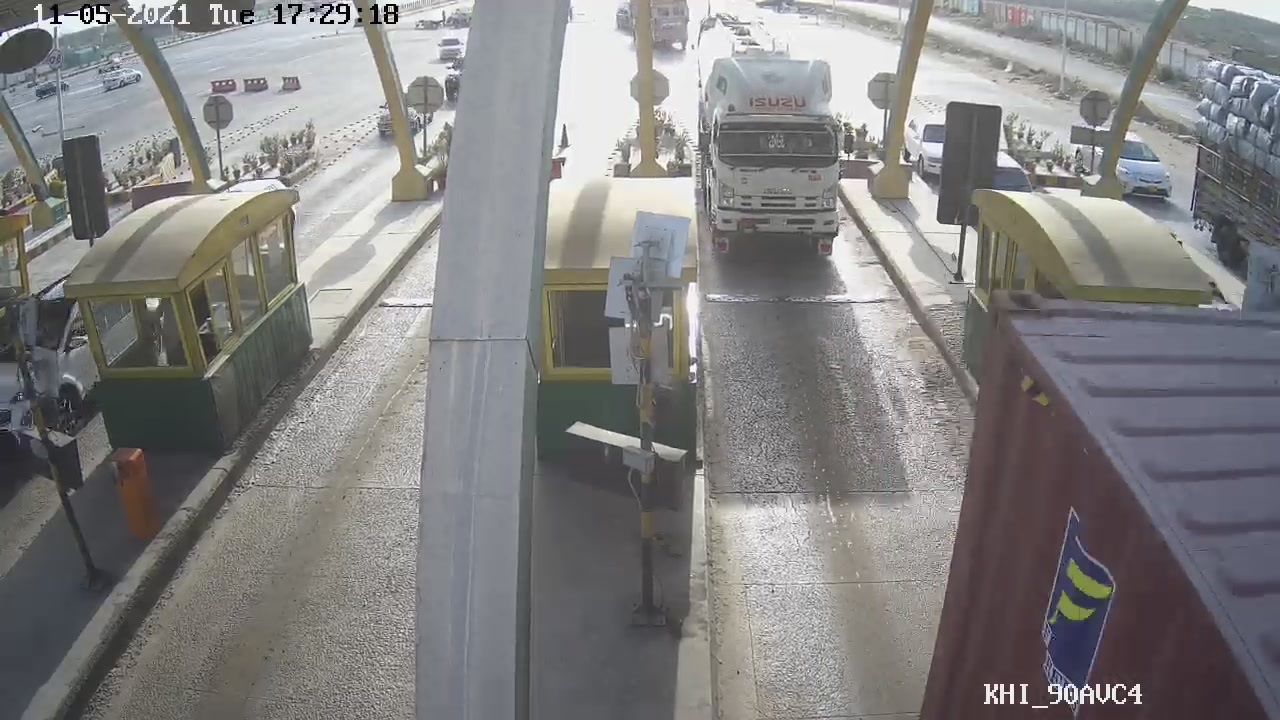F6: (688, 30, 866, 260)
